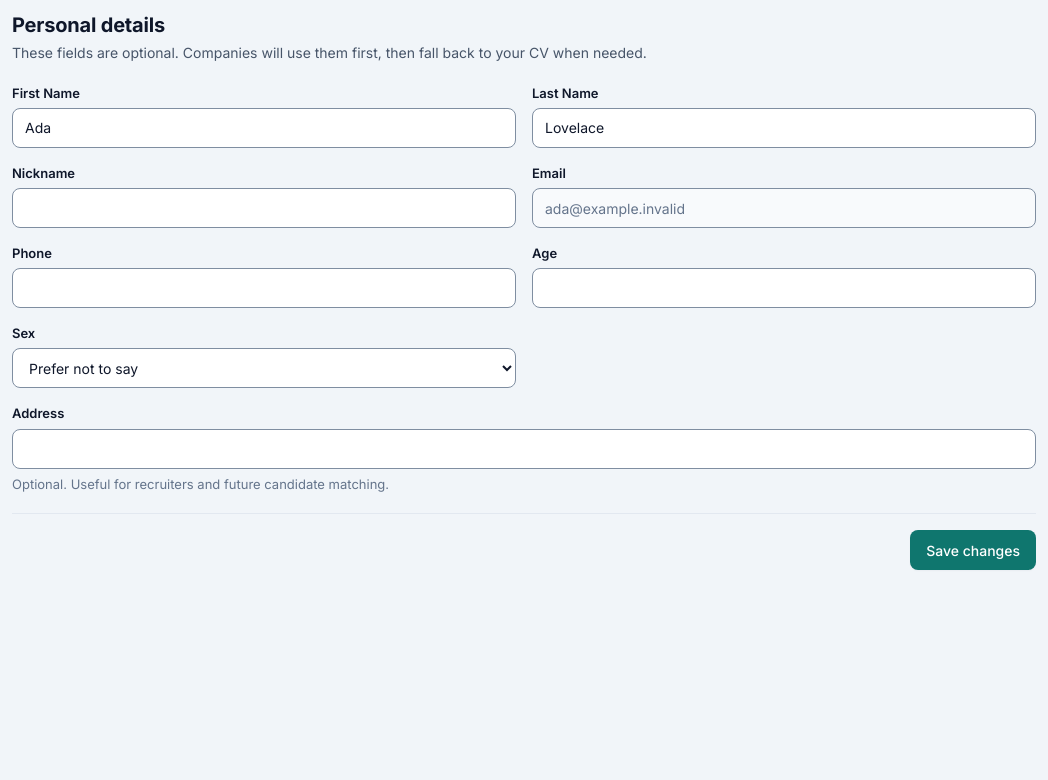
Scenario: ProfileForm › saves an edited field without touching privileged fields like is_active
Type "Ace" into the field labelled "Nickname" at (264, 208), box [12,188,516,228]
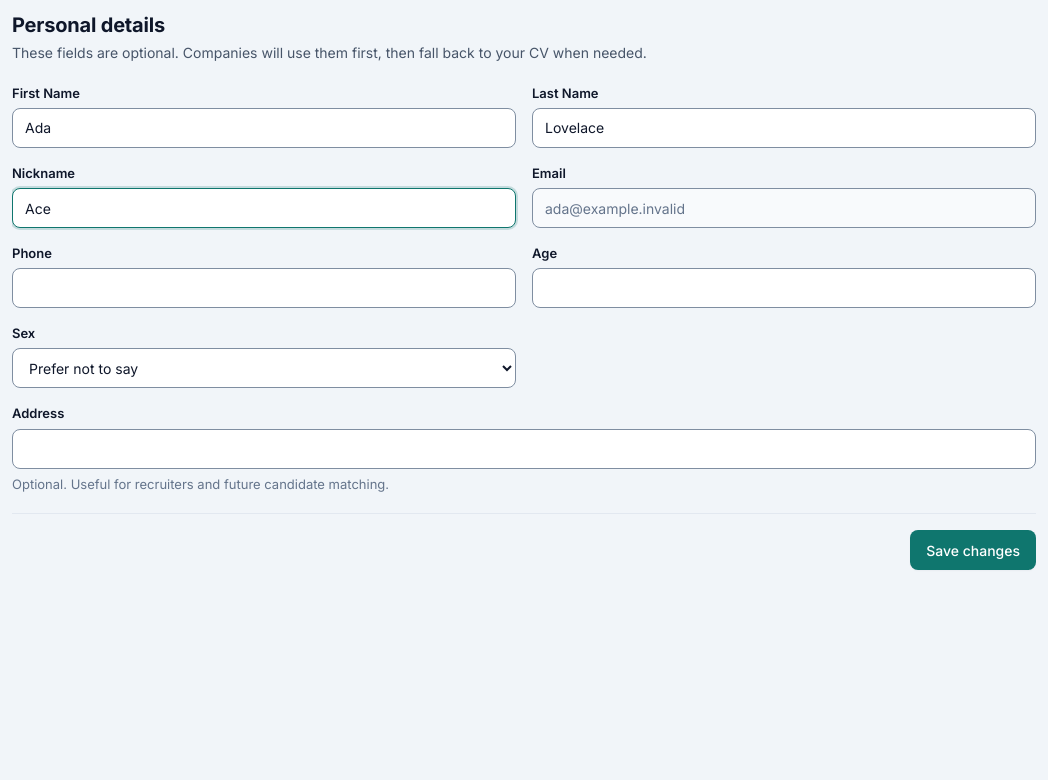
Click the button "Save changes" at (973, 550), box [910,530,1036,570]
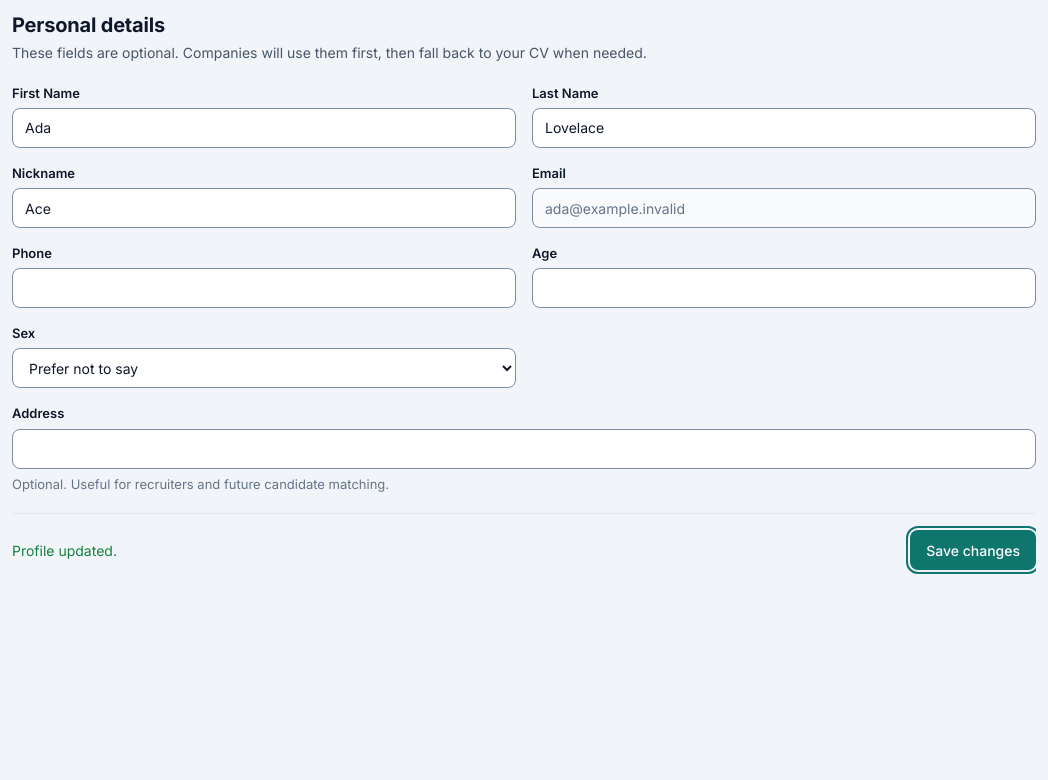
Result: the text "Profile updated." is shown at [12,540,117,561]
